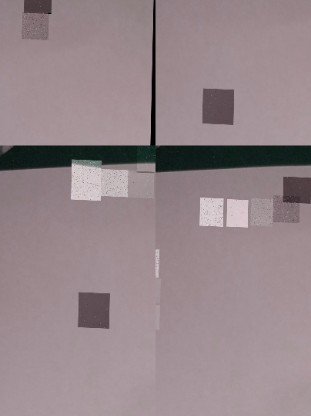ironball: (71, 158, 102, 199), (79, 290, 111, 327), (203, 87, 235, 123), (22, 10, 49, 38), (101, 167, 128, 195), (128, 168, 155, 196), (274, 193, 301, 221), (284, 174, 311, 201), (200, 196, 224, 225), (251, 196, 274, 224), (227, 197, 249, 225), (137, 145, 155, 171), (24, 0, 52, 11)
